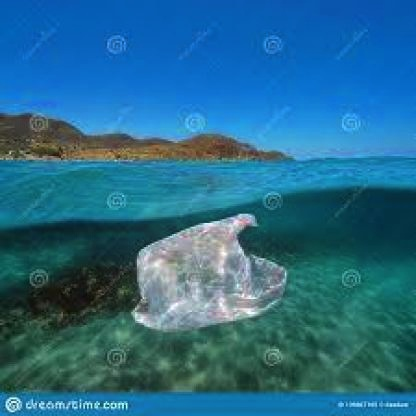pbag: (131, 212, 287, 332)
